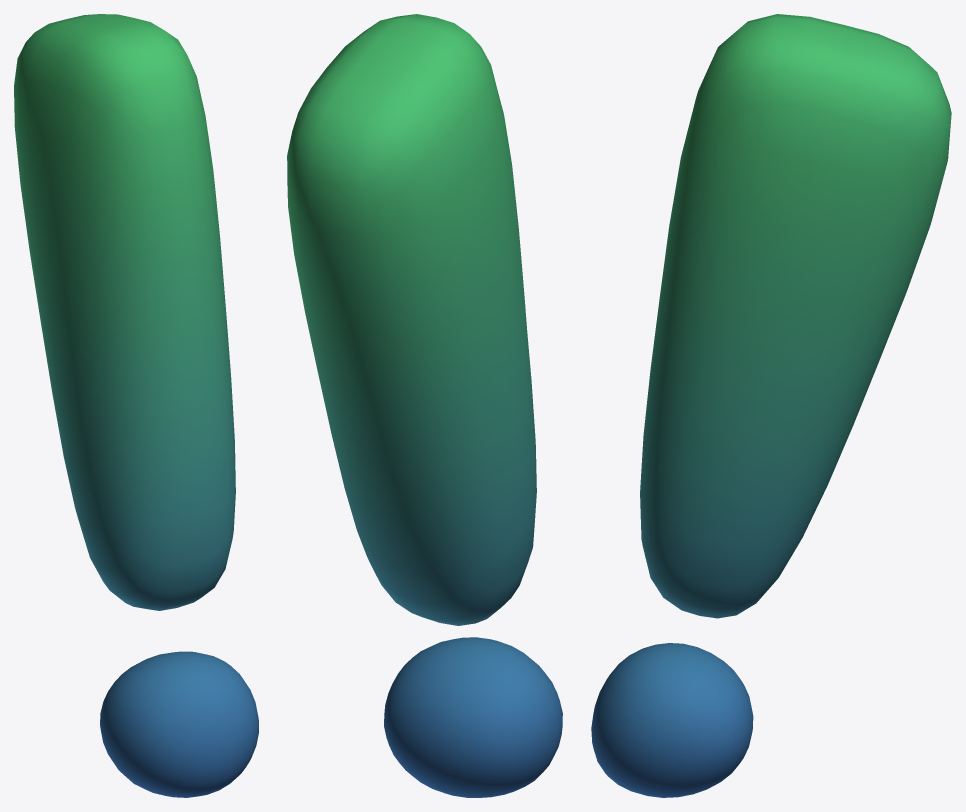
Rendered from ExclamationMarkTripleThree.dae.
The picture shows the model from 3 angles, left to right: view 1: azimuth 30°, elevation 25°; view 2: azimuth 150°, elevation 25°; view 3: azimuth 270°, elevation 25°; orthographic projection. The views are drawn at different scales.
Visible parts, largest first — view 1: Cube_003; view 2: Cube_003; view 3: Cube_003.
Boxes of the visible parts, left/top/right/bottom form: Cube_003: left=14, top=14, right=258, bottom=797; Cube_003: left=287, top=14, right=562, bottom=797; Cube_003: left=591, top=14, right=951, bottom=797.
Bounding box in the file's own units: 0.3883 × 0.7706 × 1.8.
Materials: 1 (1 with a texture image).
